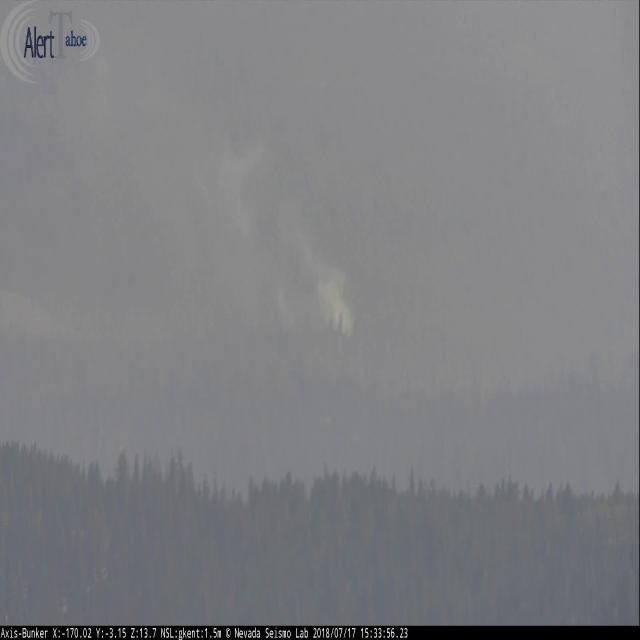smoke: (190, 101, 362, 338)
